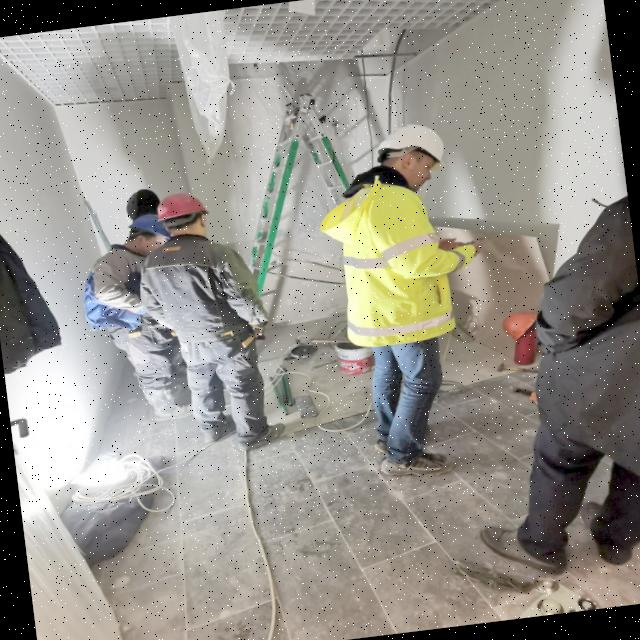Helmet: (372, 119, 453, 178), (155, 190, 213, 233), (123, 212, 170, 253), (503, 309, 541, 342)
Jacket: (328, 177, 447, 350)
NoJacket: (156, 225, 240, 352), (98, 245, 155, 349)
